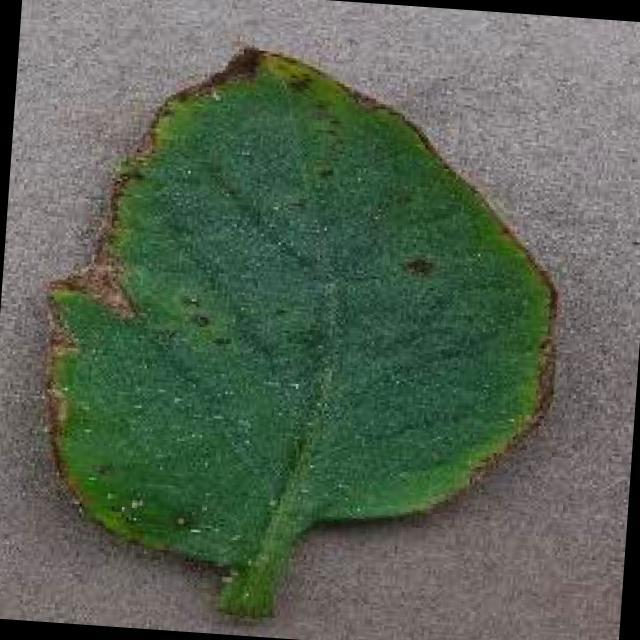Tomato bacterial spot leaf: (27, 18, 579, 600)
